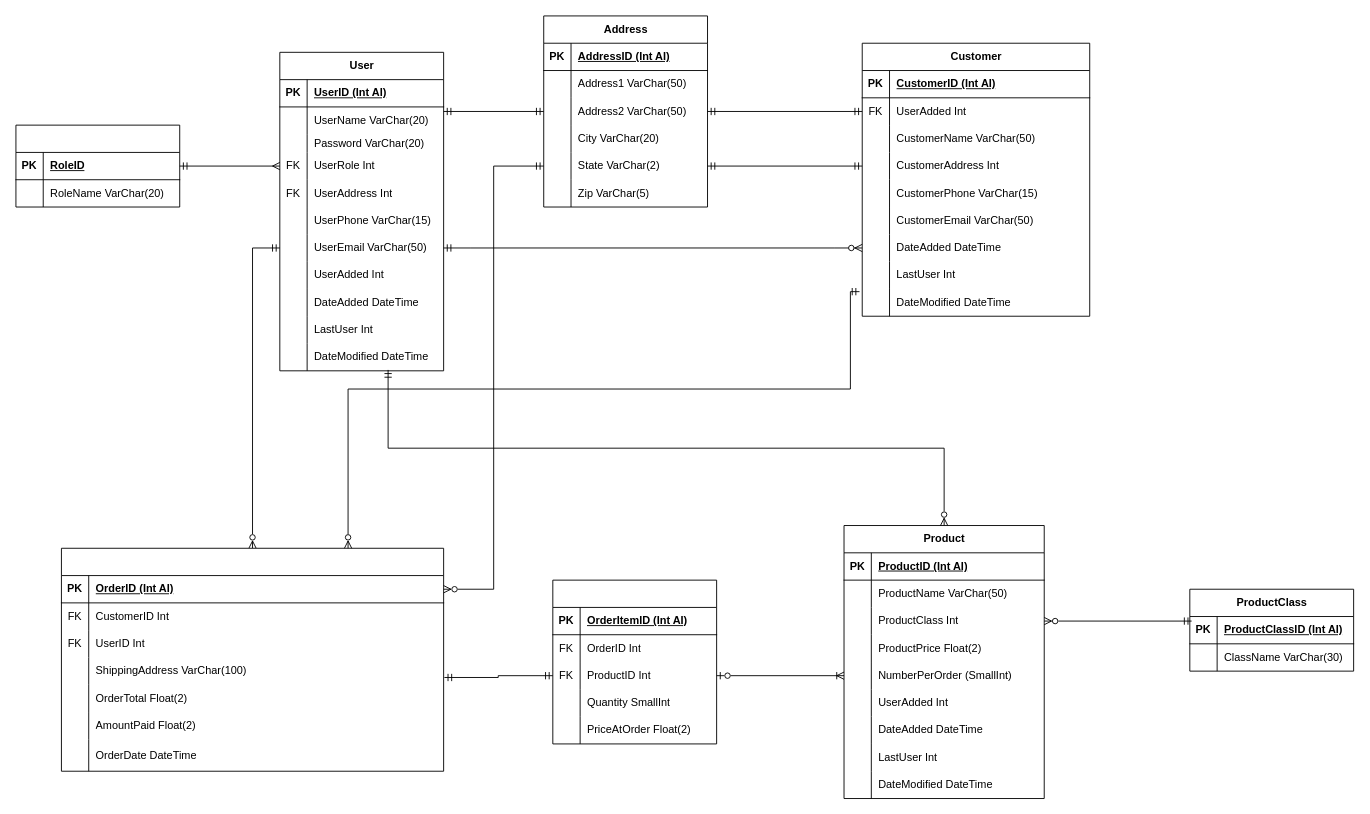
Image size: 1370x814. Some labels were removed from this diagram. The box of each missing label's shape, as (x1, y1, x2, y2) in pixels:
OrderDetails: (552, 579, 717, 744)
Orders: (61, 547, 444, 771)
UserRole: (15, 124, 180, 207)
